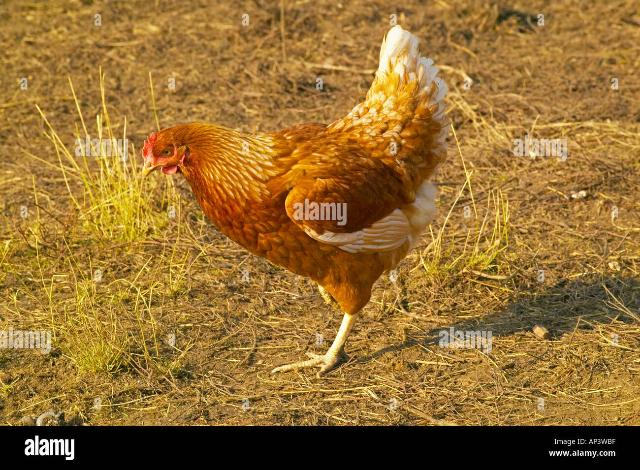Chicken: (142, 23, 448, 376)
